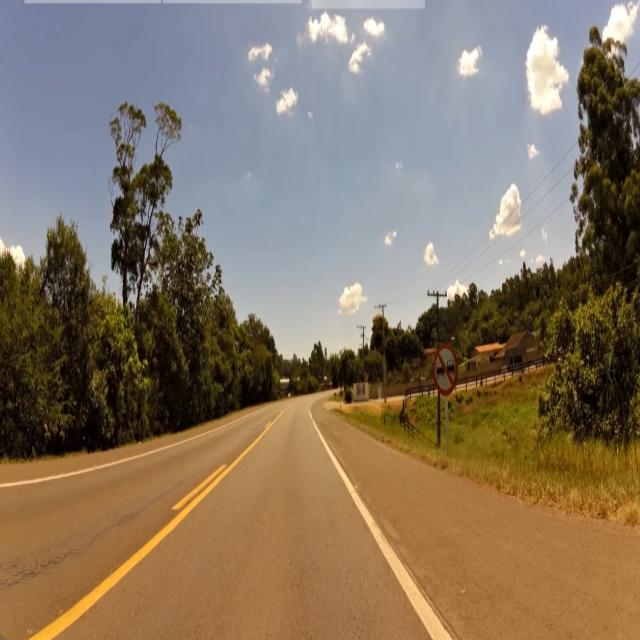R-7: (435, 342, 455, 398)
